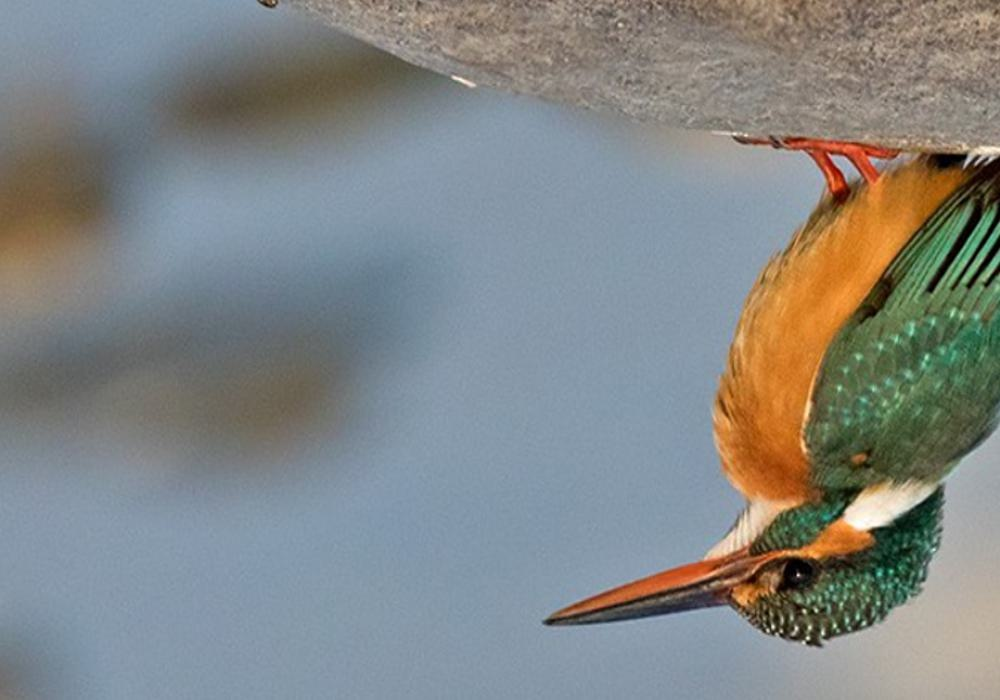kingfisher: (539, 136, 1000, 660)
